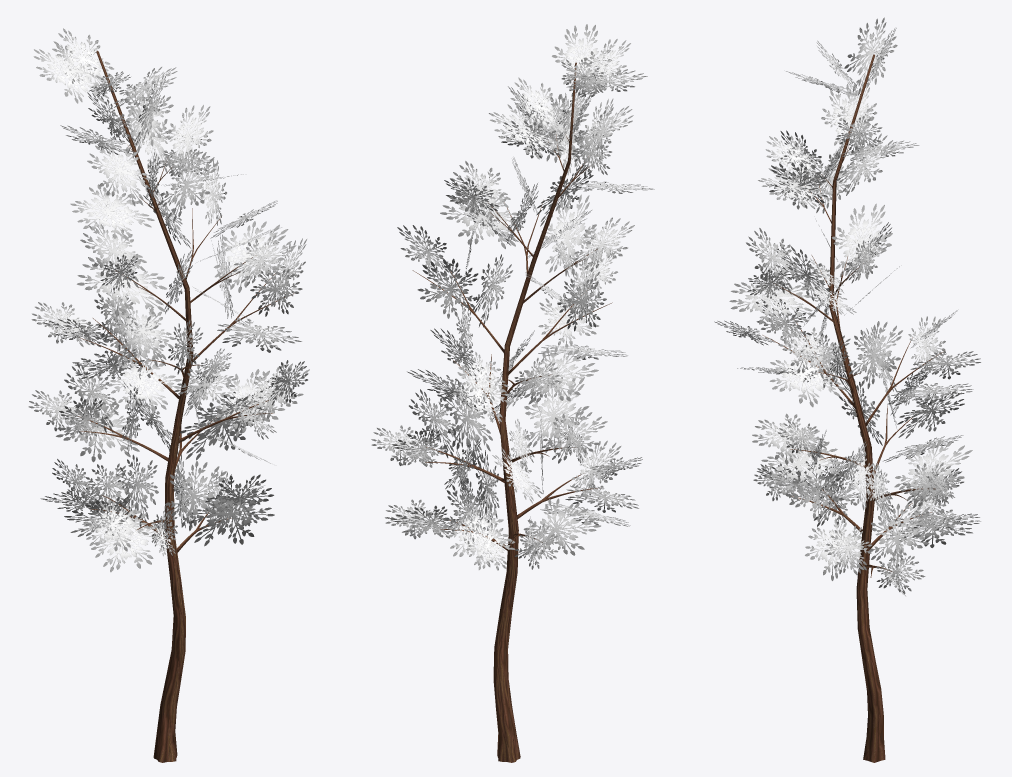
The model's file is Arbol_3.fbx.
3 views of the same model, side by side, from view 1: azimuth 30°, elevation 25°; view 2: azimuth 150°, elevation 25°; view 3: azimuth 270°, elevation 25° (orthographic). The views are drawn at different scales.
Parts seen in each view (by area): view 1: Tree_1, Tree_0; view 2: Tree_1, Tree_0; view 3: Tree_1, Tree_0.
Part boxes in pixels (x1,y1,x2,y2): Tree_1: (28, 28, 309, 572); Tree_0: (78, 50, 294, 762); Tree_1: (371, 24, 654, 570); Tree_0: (412, 62, 612, 762); Tree_1: (714, 17, 980, 596); Tree_0: (762, 54, 942, 762).
Bounding box in the file's own units: 399 × 976 × 373.
Materials: 2 (2 with a texture image).
